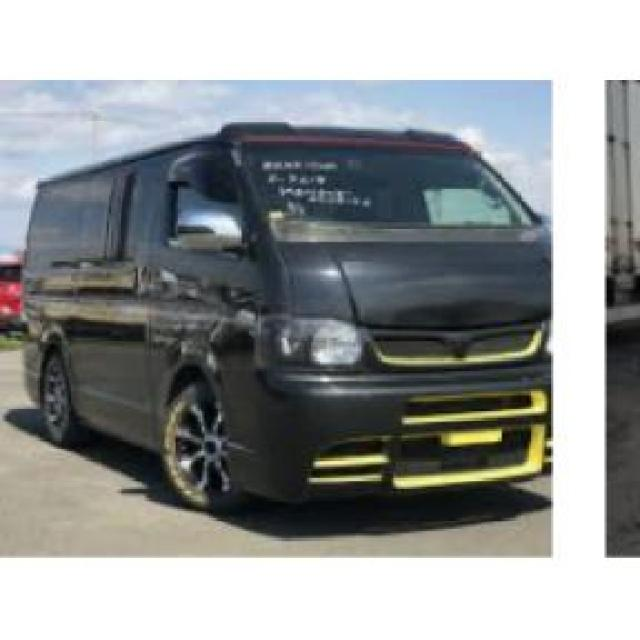Van: (24, 118, 549, 512)
